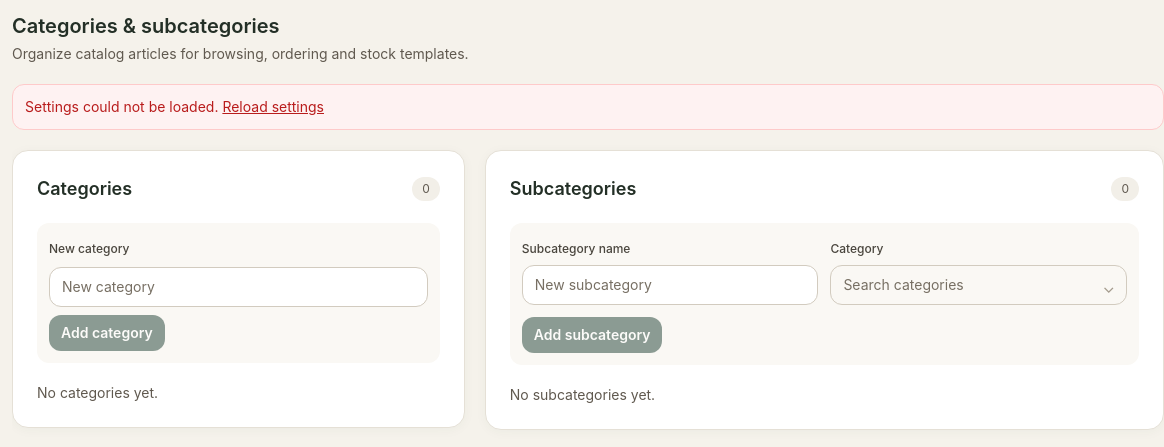
Test: recovers a settings load failure through an explicit retry
Expected: the message "Settings could not be loaded. Reload settings" is shown, x1=12 y1=84 x2=1163 y2=130
What coordinates should you click on to do the following:
click the button "Reload settings"
I would click on:
 (273, 107)
Its box is x1=222 y1=97 x2=324 y2=117.
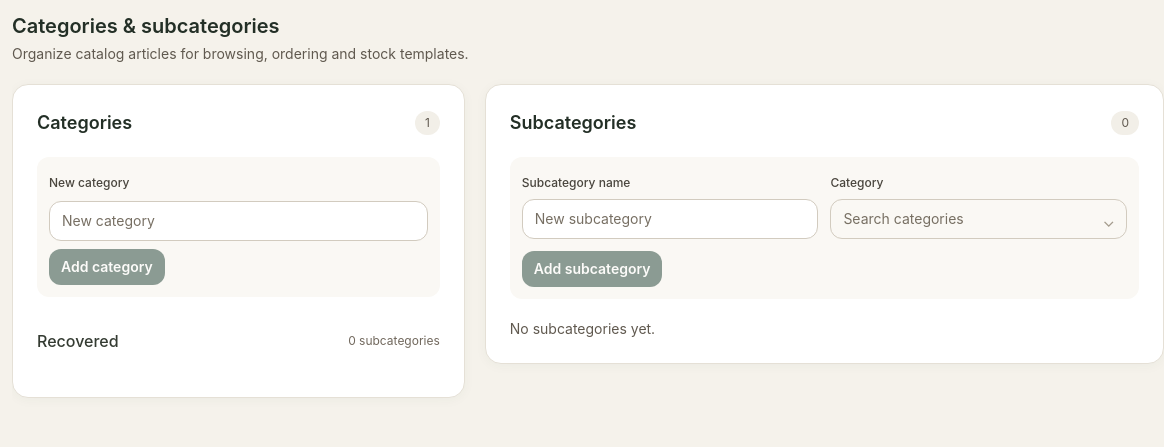
Expected: the text "Recovered" is shown, x1=37 y1=329 x2=119 y2=353
Expected: the message "Settings could not be loaded. Reload settings" is gone
